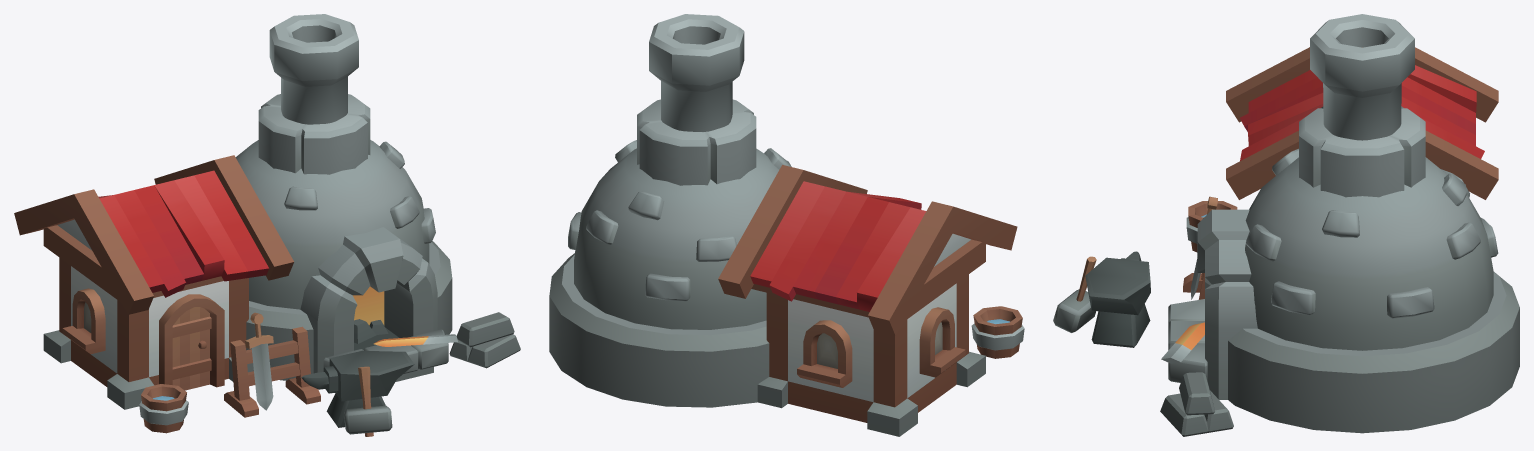
File: building_blacksmith-BJCyfa03.glb
The picture shows the model from 3 angles, left to right: view 1: azimuth 30°, elevation 25°; view 2: azimuth 150°, elevation 25°; view 3: azimuth 270°, elevation 25°; orthographic projection. The views are drawn at different scales.
Parts seen in each view (by area): view 1: building_blacksmith_red; view 2: building_blacksmith_red; view 3: building_blacksmith_red.
Part boxes in pixels (left/top/right/bottom): building_blacksmith_red: left=14, top=14, right=520, bottom=436; building_blacksmith_red: left=549, top=14, right=1024, bottom=436; building_blacksmith_red: left=1053, top=14, right=1519, bottom=436.
Size of the model in its own units: 7.08 by 5.42 by 6.85.
Materials: 1 (1 with a texture image).
